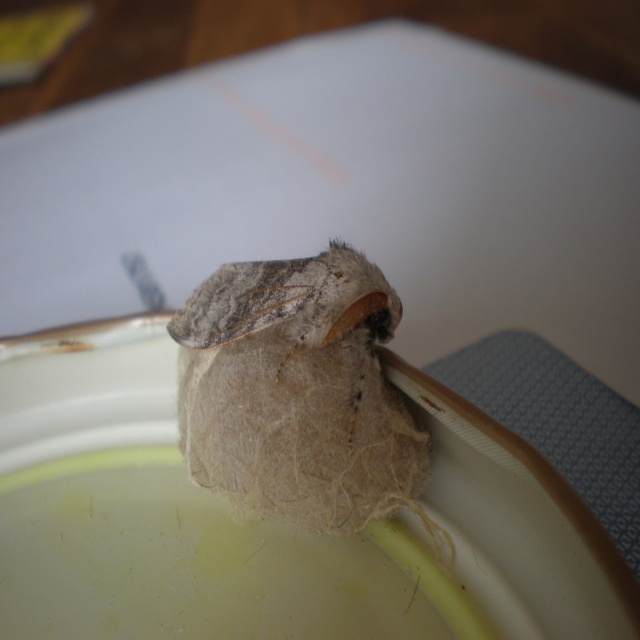Moths and butterflies: (162, 234, 408, 457)
